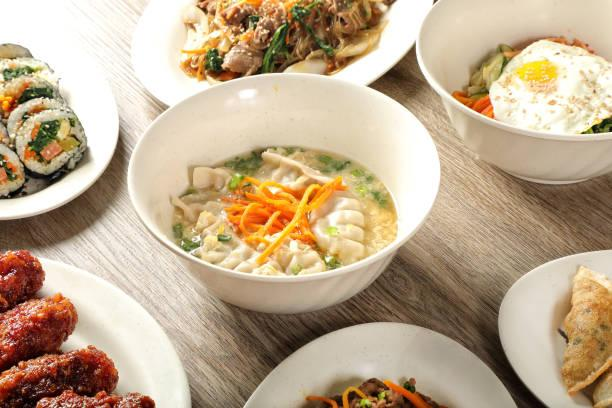Braised Crucian Carp: (129, 73, 435, 311), (419, 0, 609, 184)
